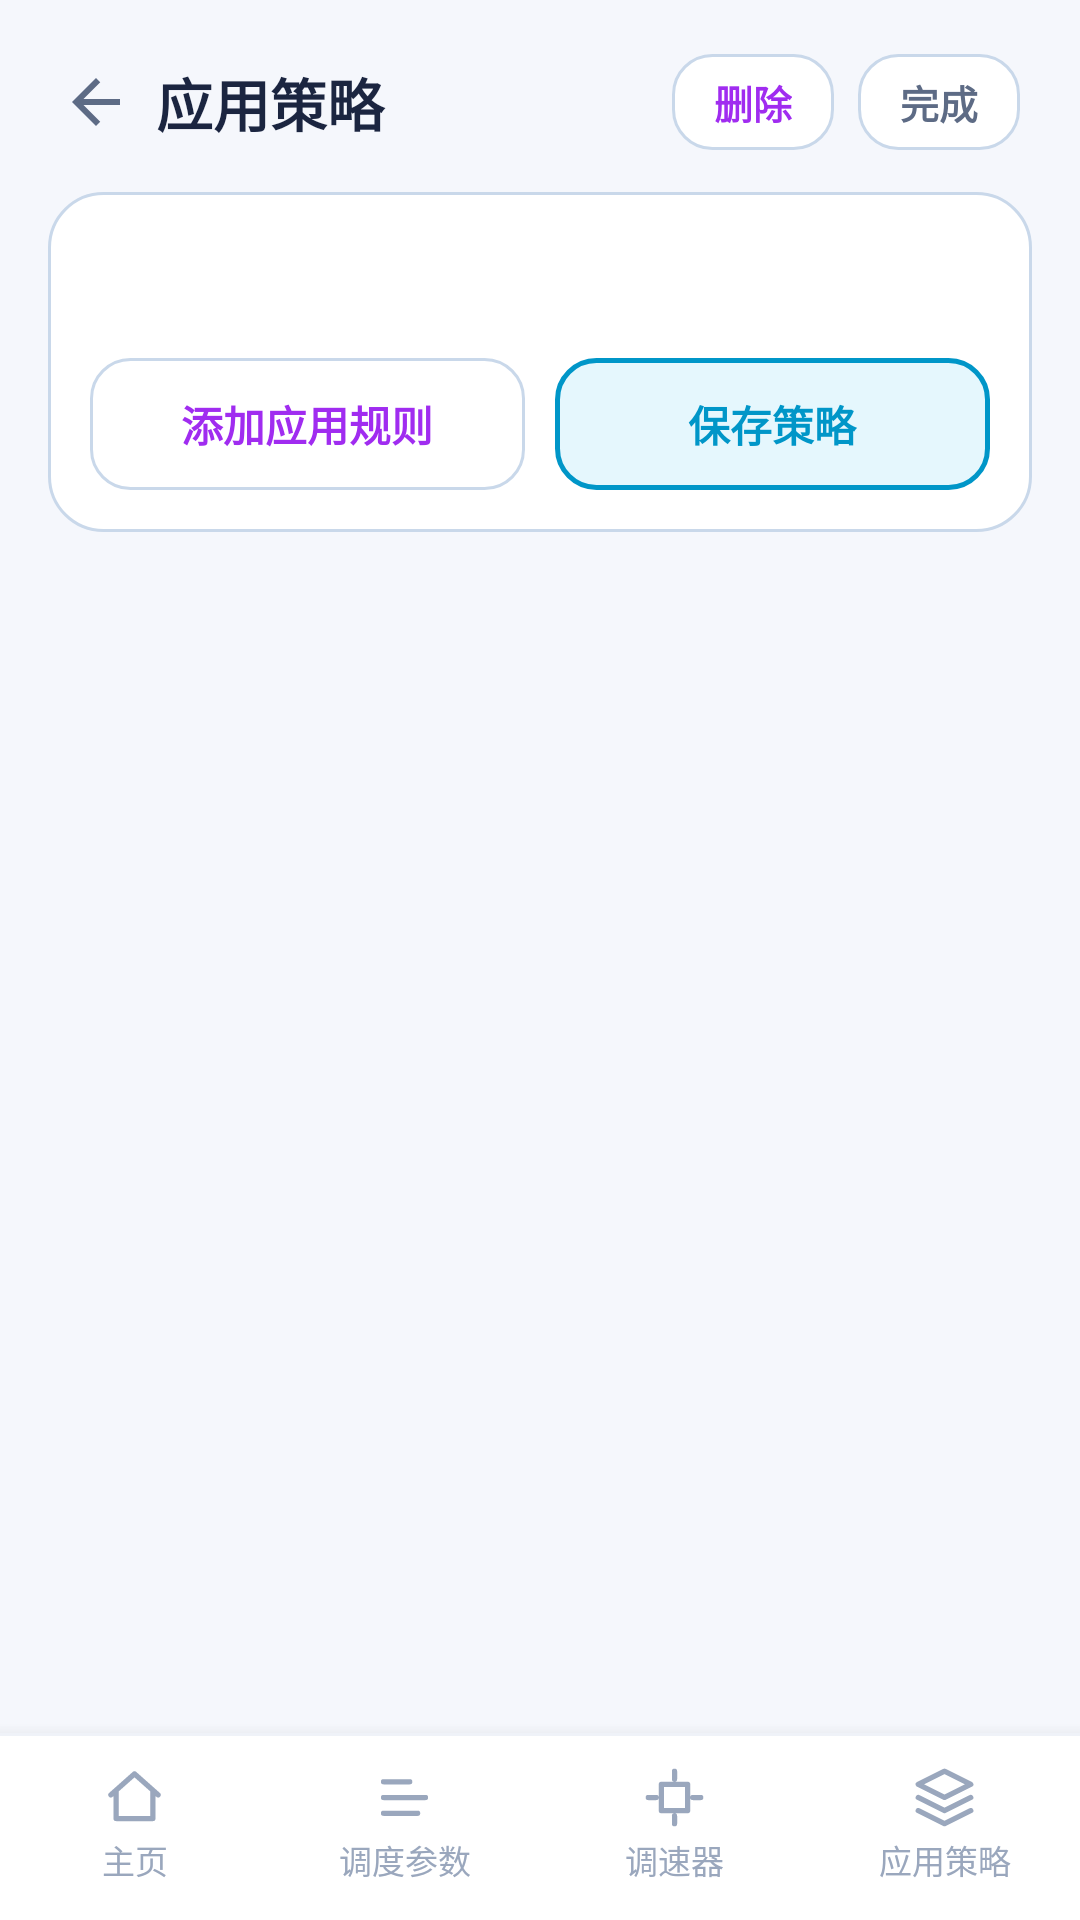

Icons on this 1080px x 1920px Android screen, each with its box as Rect(x1, y1, x2, y2):
返回: Rect(72, 78, 120, 126)
